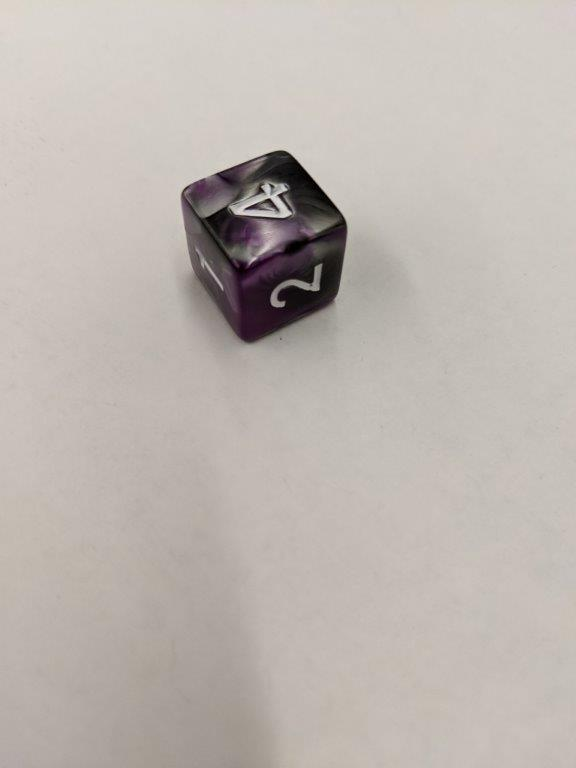d6-4: (179, 149, 347, 343)
